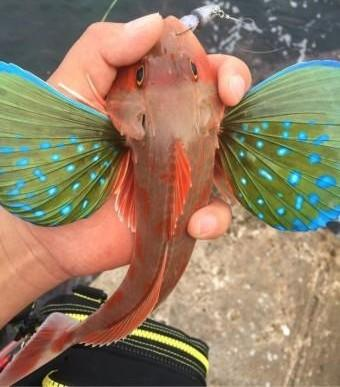fish: (0, 17, 339, 386)
